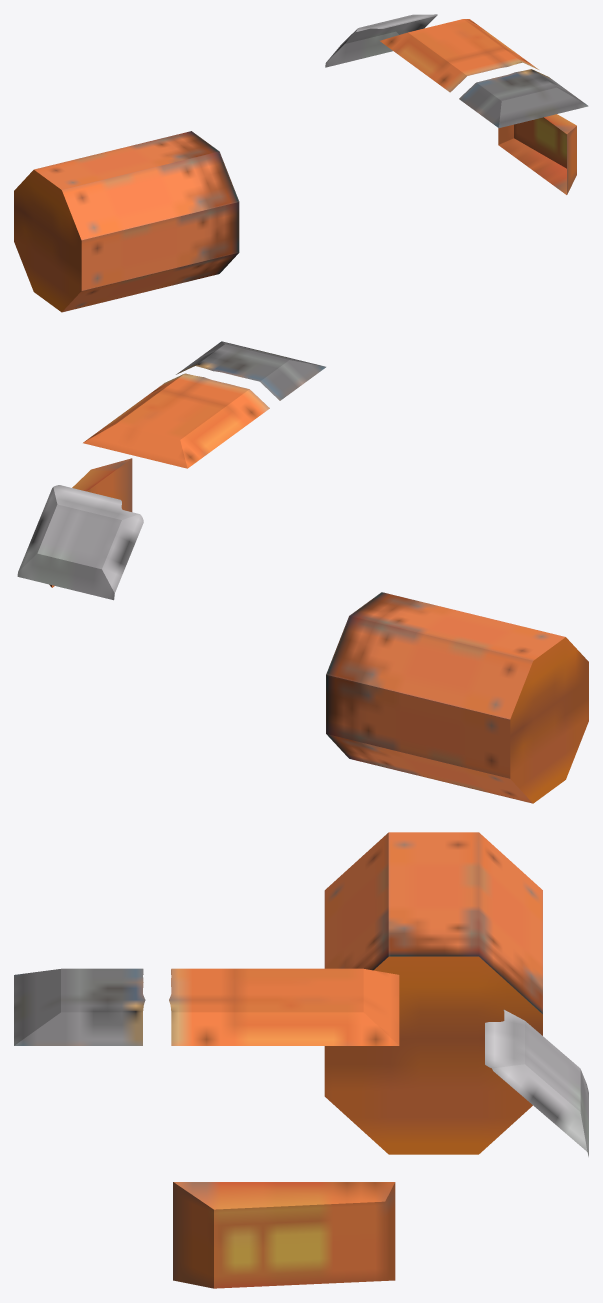
File: Goblins.obj
3 renders of one model, top to bottom at view 1: azimuth 30°, elevation 25°; view 2: azimuth 150°, elevation 25°; view 3: azimuth 270°, elevation 25°, orthographic. The views are drawn at different scales.
Visible parts, largest first — view 1: PulsarGunUV; view 2: PulsarGunUV; view 3: PulsarGunUV.
Part boxes in pixels (left/top/right/bottom): PulsarGunUV: left=14, top=14, right=588, bottom=312; PulsarGunUV: left=17, top=341, right=588, bottom=803; PulsarGunUV: left=14, top=832, right=588, bottom=1288.
Bounding box in the file's own units: 7.83 × 3.3 × 5.24.
